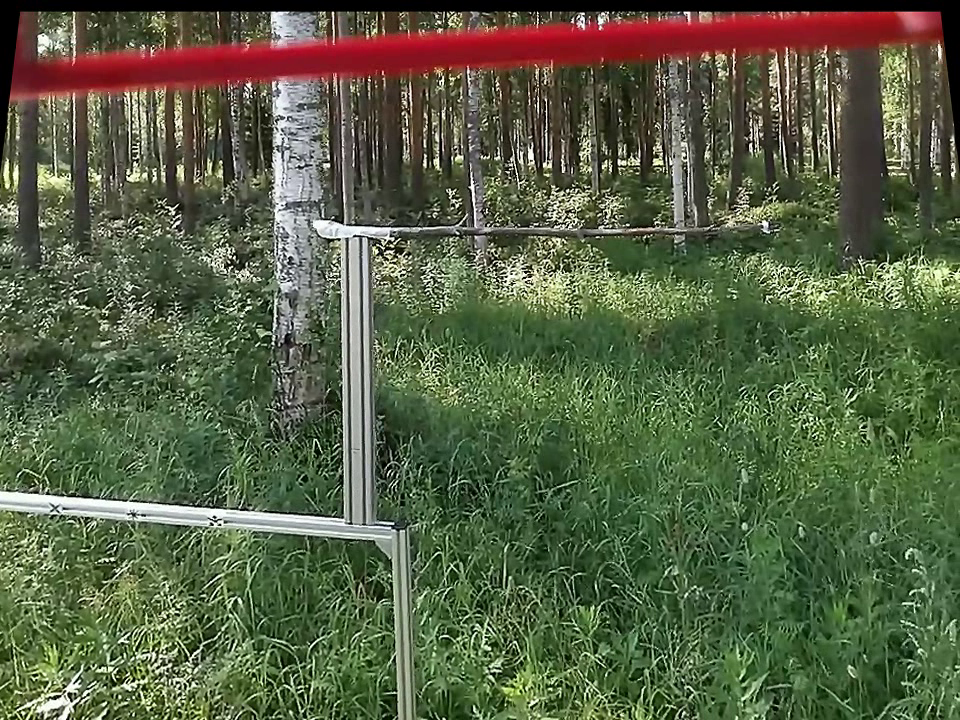aluminum_frame: (2, 485, 408, 543), (334, 239, 380, 527), (385, 513, 422, 716)
branch: (393, 210, 756, 248)
